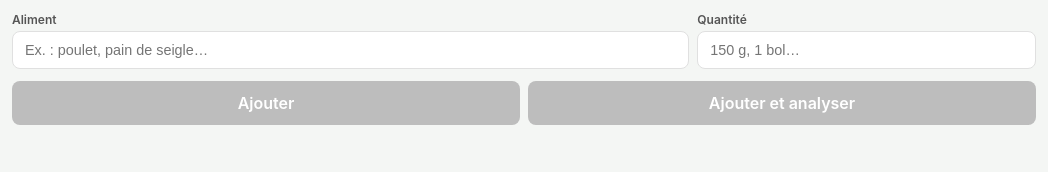
FoodSearchComponent › suggestions › devrait remplir le champ avec la suggestion sélectionnée
Type "bro" into the field with id "food-name" at (351, 50), box [12, 31, 689, 69]
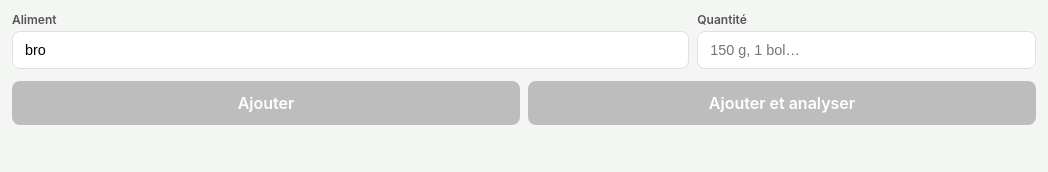
Focus the field with id "food-name" at (351, 50), box [12, 31, 689, 69]
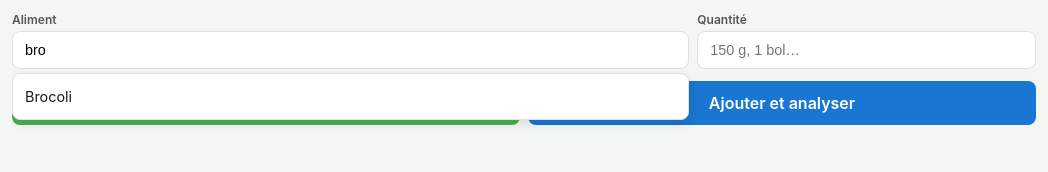
Press the mouse on the option with class "food-search__suggestion" at (48, 96), box [25, 88, 72, 105]
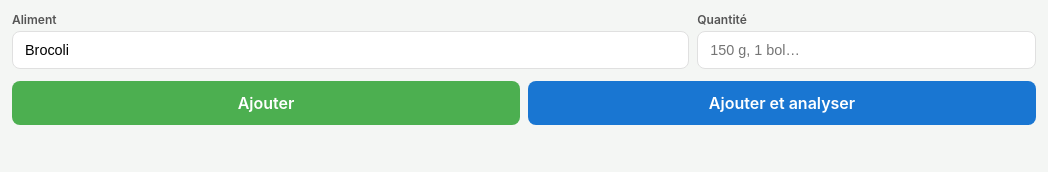
Check: the list with class "food-search__suggestions" is gone
